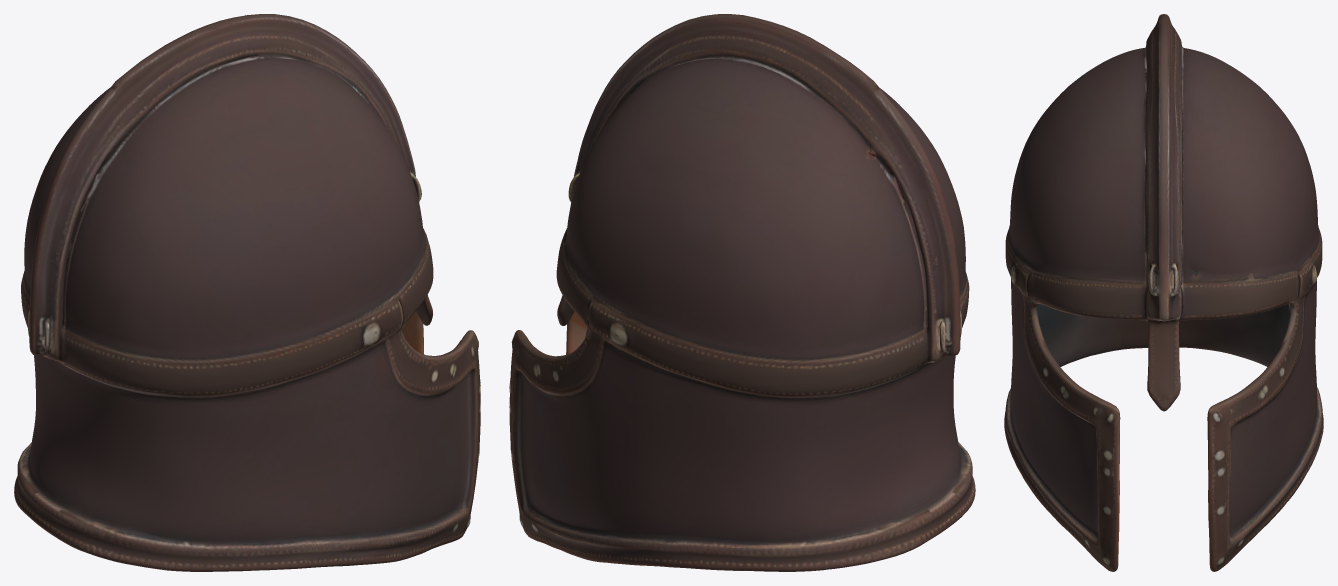
The model's file is MediumHelmet.fbx.
The picture shows the model from 3 angles, left to right: view 1: azimuth 30°, elevation 25°; view 2: azimuth 150°, elevation 25°; view 3: azimuth 270°, elevation 25°; orthographic projection. The views are drawn at different scales.
Visible parts, largest first — view 1: tripo_node_d81d8604; view 2: tripo_node_d81d8604; view 3: tripo_node_d81d8604.
Boxes of the visible parts, x1=… form: tripo_node_d81d8604: x1=14, y1=14, x2=480, y2=571; tripo_node_d81d8604: x1=509, y1=14, x2=975, y2=571; tripo_node_d81d8604: x1=1004, y1=14, x2=1323, y2=571.
Size of the model in its own units: 81.08 by 99.83 by 63.22.
Materials: 1 (1 with a texture image).
